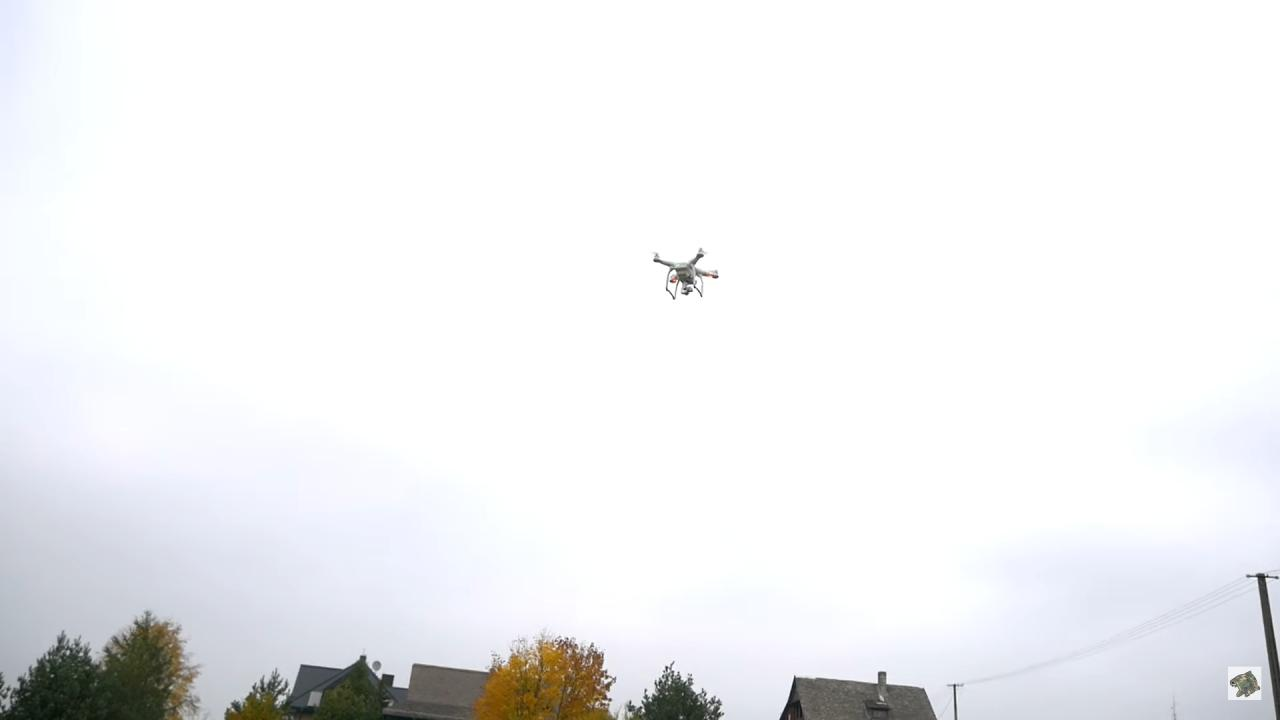Drone: (640, 241, 729, 306)
